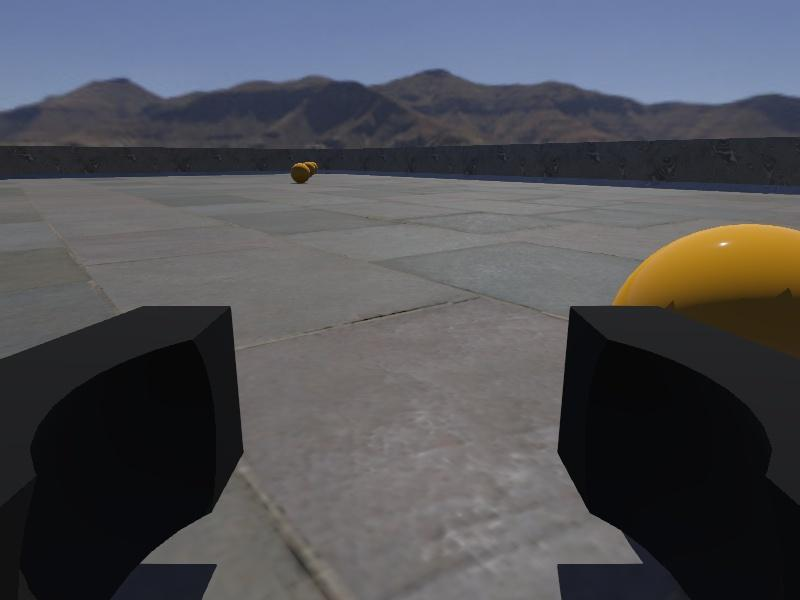orange ball: (289, 162, 311, 184)
